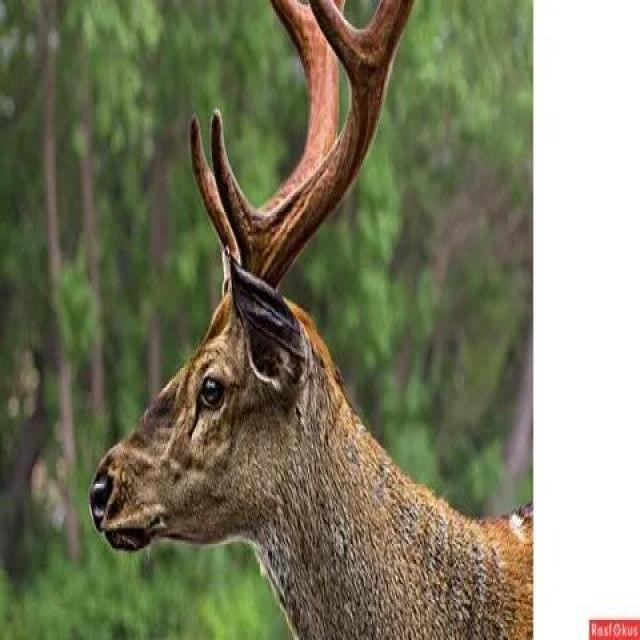deer: (50, 180, 600, 640)
